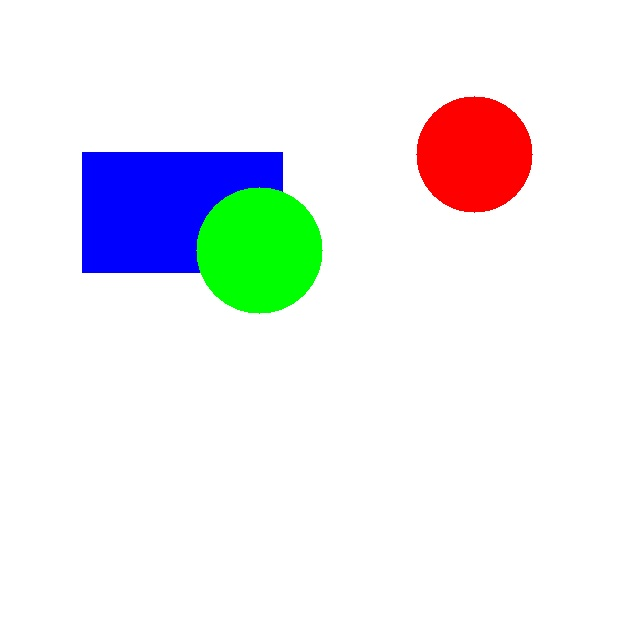cartao: (82, 152, 282, 272)
rosca_externa: (196, 187, 322, 313)
rosca_interna: (416, 96, 532, 212)
